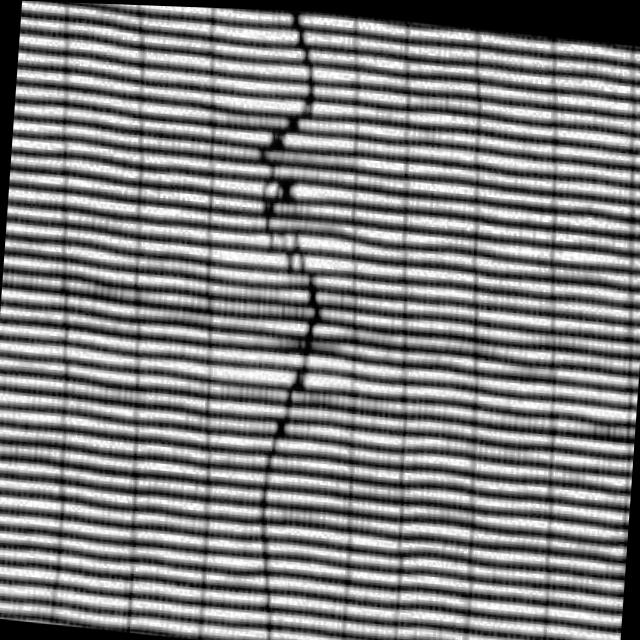Stitch: (202, 6, 380, 478)
